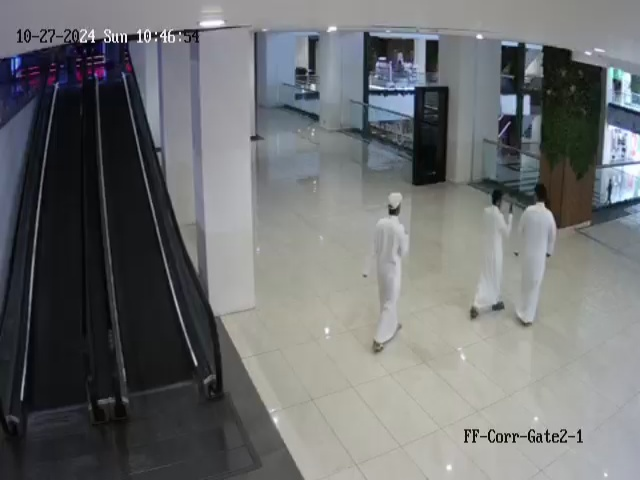male: (362, 192, 409, 353), (512, 183, 557, 328), (469, 189, 513, 320), (601, 160, 620, 210)
